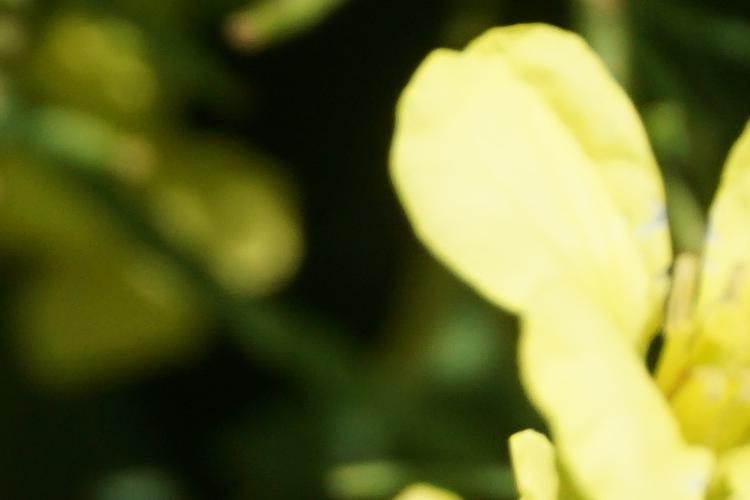yellow: (397, 46, 749, 488)
